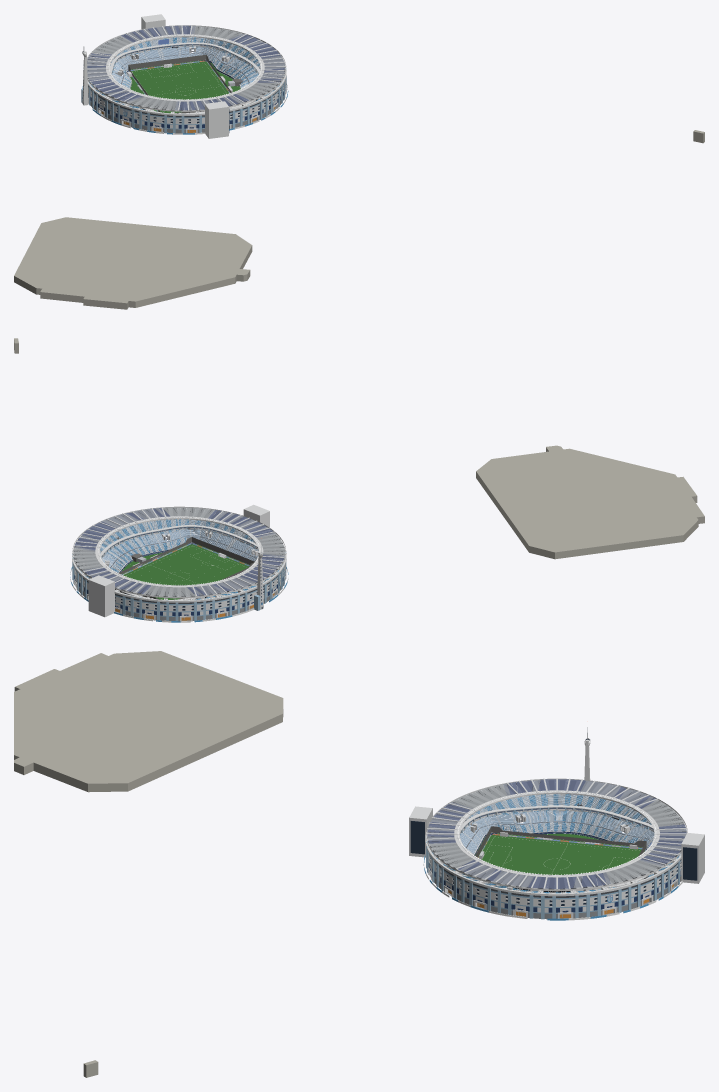
The model's file is RACING_3D.glb.
The picture shows the model from 3 angles, top to bottom: view 1: azimuth 30°, elevation 25°; view 2: azimuth 150°, elevation 25°; view 3: azimuth 270°, elevation 25°; orthographic projection. The views are drawn at different scales.
Parts seen in each view (by area): view 1: Stadium_Wall.001, Stadium_Continuous_Roof, Stadium_Rear_Structure, Stadium_Continuous_Terraces, Stadium_Roof_Ribs, Stadium_Turf_Stripes, Stadium_Turf_Alternate, Stadium_Seats_Primary, Stadium_Roof_Termination, Stadium_Palcos, Stadium_Stair_Core_W, Stadium_Roof_Visor (+1 smaller); view 2: Stadium_Wall.001, Stadium_Continuous_Roof, Stadium_Rear_Structure, Stadium_Continuous_Terraces, Stadium_Roof_Ribs, Stadium_Seats_Primary, Stadium_Turf_Alternate, Stadium_Turf_Stripes, Stadium_Stair_Core_E, Stadium_Roof_Termination, Stadium_Palcos, Stadium_Roof_Visor (+2 smaller); view 3: Stadium_Wall.001, Stadium_Continuous_Roof, Stadium_Rear_Structure, Stadium_Continuous_Terraces, Stadium_Roof_Ribs, Stadium_Seats_Primary, Stadium_Turf_Alternate, Stadium_Turf_Stripes, Stadium_Roof_Termination, Stadium_Palcos, Stadium_Roof_Visor, Stadium_Pitch_Fence (+2 smaller).
Part boxes in pixels (x1,y1,x2,y2): Stadium_Wall.001: (14,217,252,309); Stadium_Continuous_Roof: (87,25,285,110); Stadium_Rear_Structure: (87,37,286,133); Stadium_Continuous_Terraces: (88,37,284,107); Stadium_Roof_Ribs: (87,25,286,110); Stadium_Turf_Stripes: (130,62,240,112); Stadium_Turf_Alternate: (130,61,240,113); Stadium_Seats_Primary: (89,37,284,110); Stadium_Roof_Termination: (87,25,286,132); Stadium_Palcos: (110,42,259,113); Stadium_Stair_Core_W: (205,101,228,138); Stadium_Roof_Visor: (87,26,285,110); Stadium_Wall.001: (476,445,704,559); Stadium_Continuous_Roof: (73,507,285,596); Stadium_Rear_Structure: (72,519,286,621); Stadium_Continuous_Terraces: (74,519,282,597); Stadium_Roof_Ribs: (73,507,284,596); Stadium_Seats_Primary: (73,519,284,599); Stadium_Turf_Alternate: (124,544,248,599); Stadium_Turf_Stripes: (122,544,248,599); Stadium_Stair_Core_E: (88,575,114,617); Stadium_Roof_Termination: (72,506,286,619); Stadium_Palcos: (100,525,258,600); Stadium_Roof_Visor: (73,508,285,596); Stadium_Wall.001: (14,651,283,792); Stadium_Continuous_Roof: (427,779,686,888); Stadium_Rear_Structure: (425,794,687,919); Stadium_Continuous_Terraces: (428,794,681,893); Stadium_Roof_Ribs: (426,778,687,889); Stadium_Seats_Primary: (427,794,680,893); Stadium_Turf_Alternate: (481,833,645,874); Stadium_Turf_Stripes: (483,833,641,874); Stadium_Roof_Termination: (426,778,687,917); Stadium_Palcos: (459,805,654,891); Stadium_Roof_Visor: (427,781,686,889); Stadium_Pitch_Fence: (475,826,646,857).
Size of the model in its own units: 686 by 65.9 by 479.
